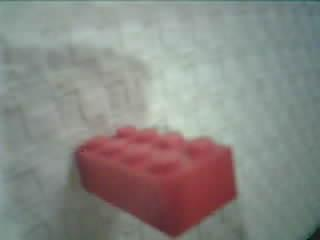lego: (74, 124, 236, 238)
